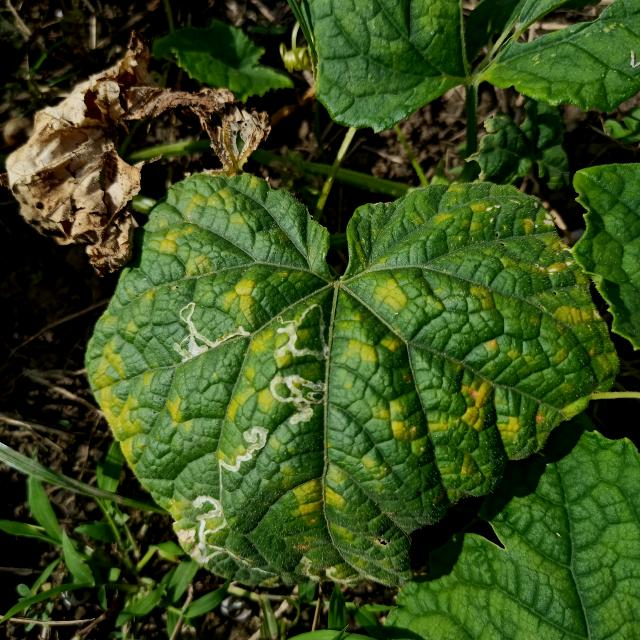disease_cucumber: (85, 186, 574, 585)
